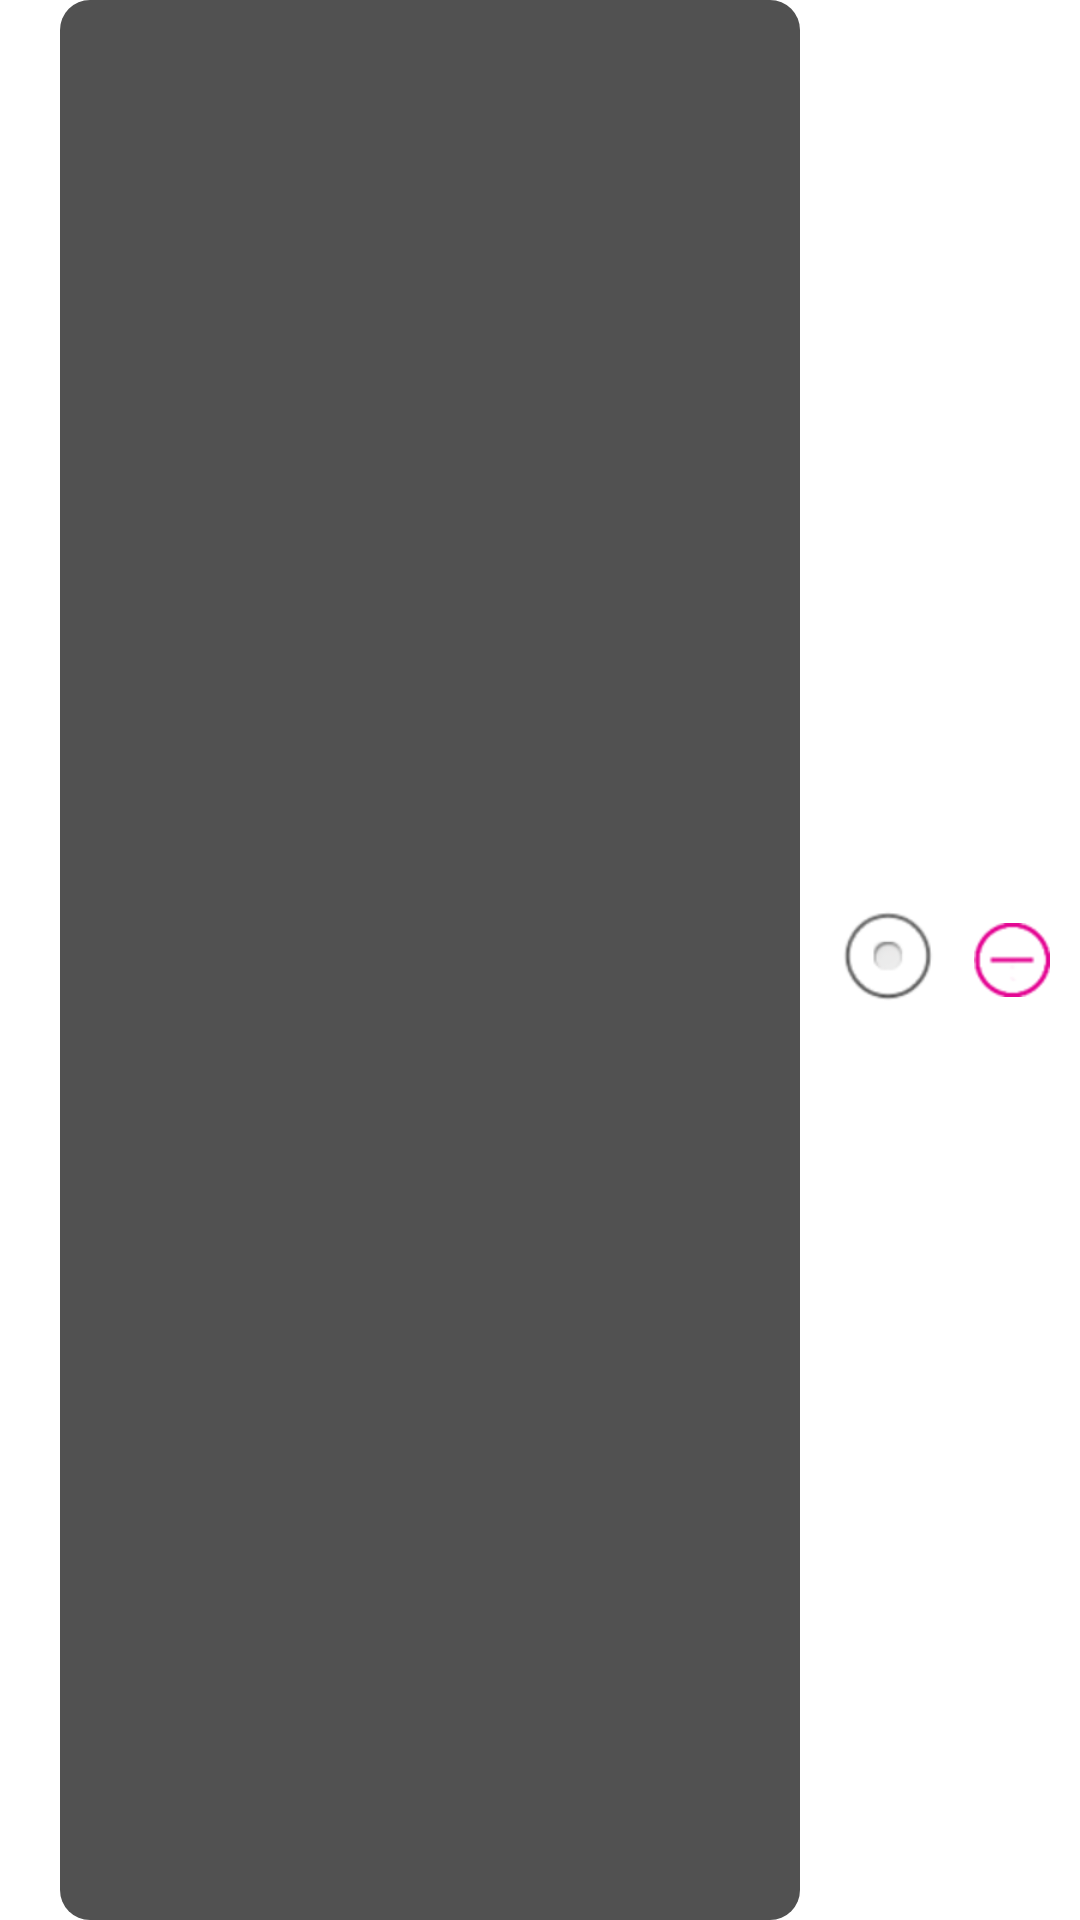

Icon bounding boxes for this 1080*1920 phone screenshot, format (x1, y1, x2, y2):
mode remove: (974, 923, 1050, 997)
